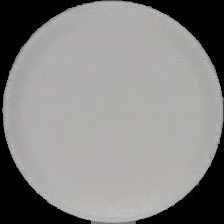50090-0442: (0, 0, 224, 224)
